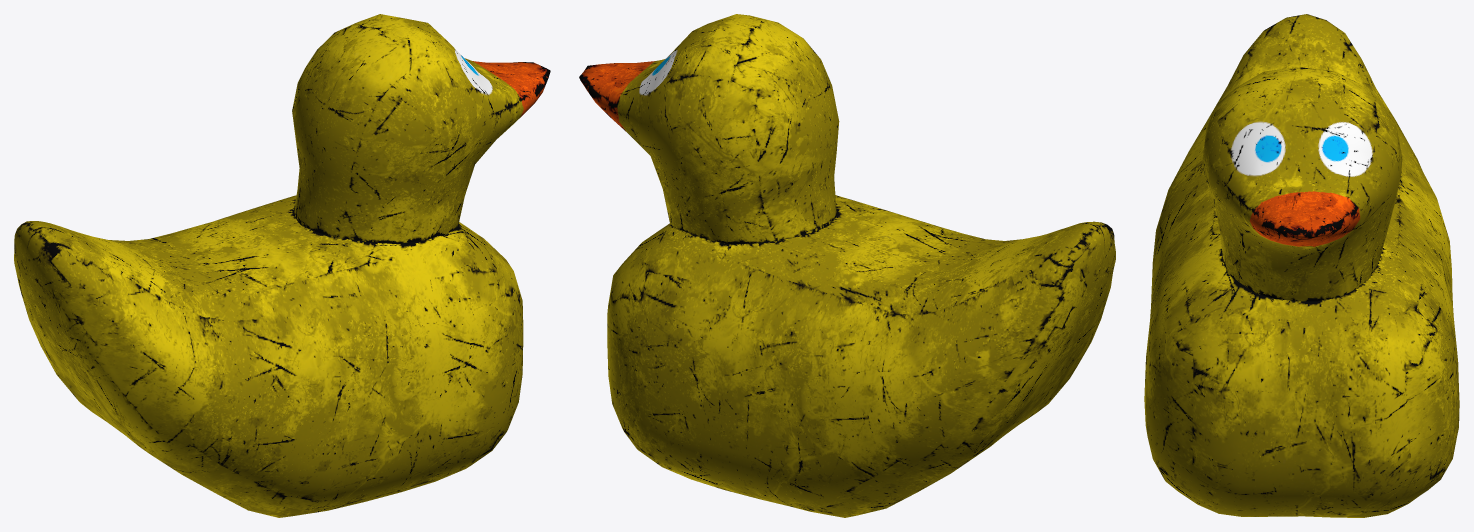
Rendered from duck.fbx.
The picture shows the model from 3 angles, left to right: view 1: azimuth 30°, elevation 25°; view 2: azimuth 150°, elevation 25°; view 3: azimuth 270°, elevation 25°; orthographic projection.
Parts seen in each view (by area): view 1: duck; view 2: duck; view 3: duck.
Part boxes in pixels (bbox=[...]): duck: bbox=[14, 14, 550, 517]; duck: bbox=[579, 14, 1115, 517]; duck: bbox=[1144, 14, 1459, 517].
Size of the model in its own units: 251 by 200 by 129.
1 material, 1 textured.
